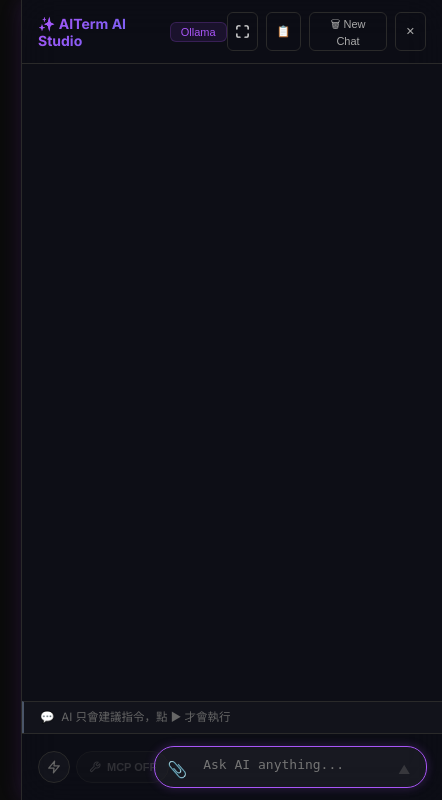
Scenario: AiPanel › ⚡ 執行 run_command 後把結果交回 AI 再問一次
The image size is (442, 800).
Click the button titled "啟用 Agent 模式" at (54, 767), box [38, 751, 70, 783]
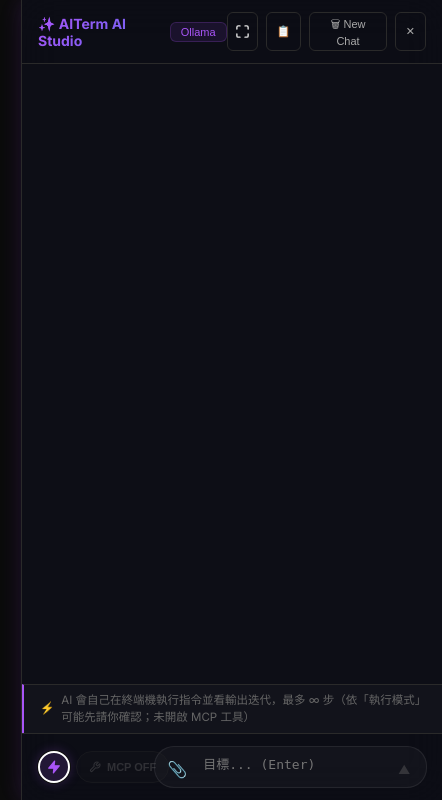
Type "列出檔案" into the text box at (291, 767), box [197, 751, 384, 783]
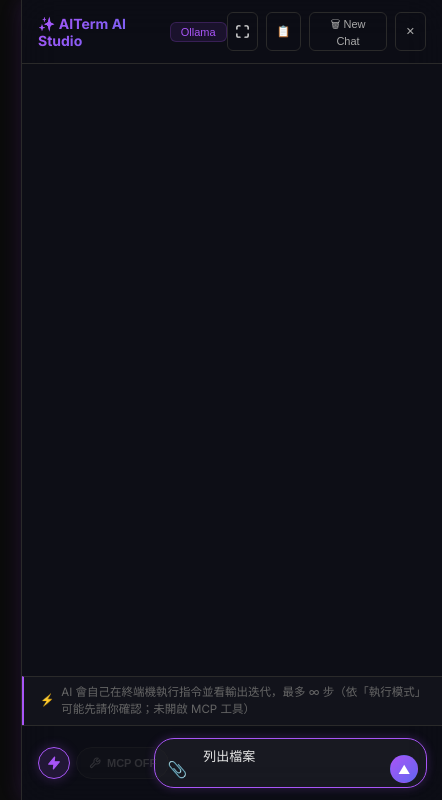
Press Enter
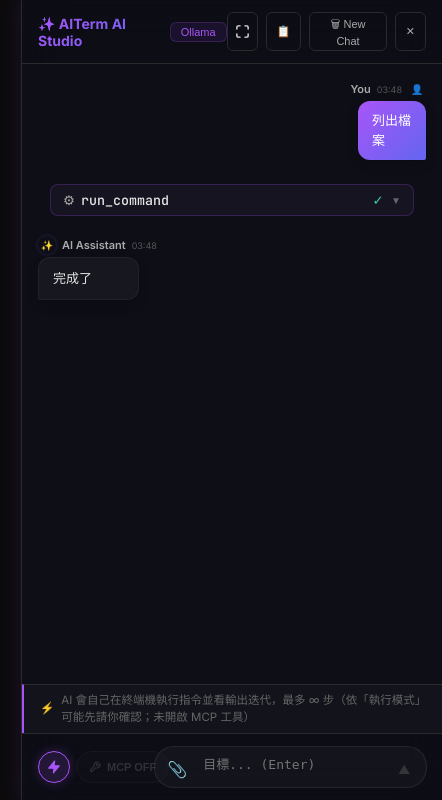
Check: the text "完成了" is shown, box [53, 270, 92, 286]
